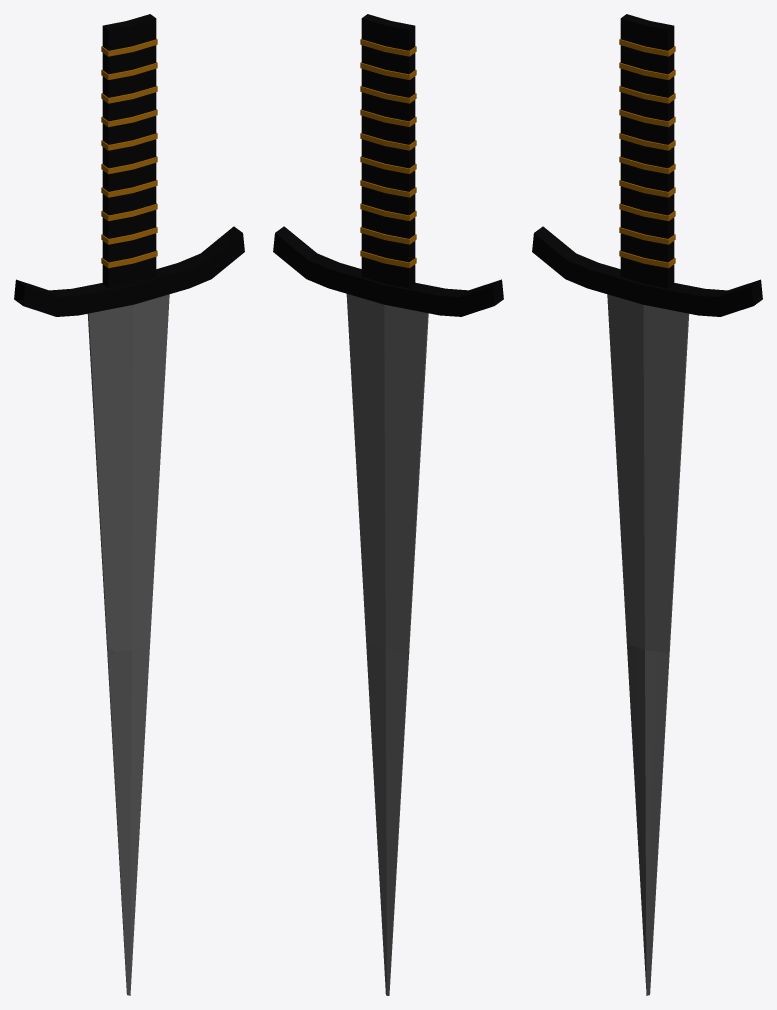
Rendered from Sword_02.fbx.
The picture shows the model from 3 angles, left to right: view 1: azimuth 30°, elevation 25°; view 2: azimuth 150°, elevation 25°; view 3: azimuth 330°, elevation 25°; orthographic projection.
Parts seen in each view (by area): view 1: Sword_02; view 2: Sword_02; view 3: Sword_02.
Boxes of the visible parts, x1,y1,x2,y2 form: Sword_02: (14, 14, 244, 995); Sword_02: (273, 14, 503, 995); Sword_02: (532, 14, 762, 995).
Size of the model in its own units: 23.38 by 98.05 by 1.67.
